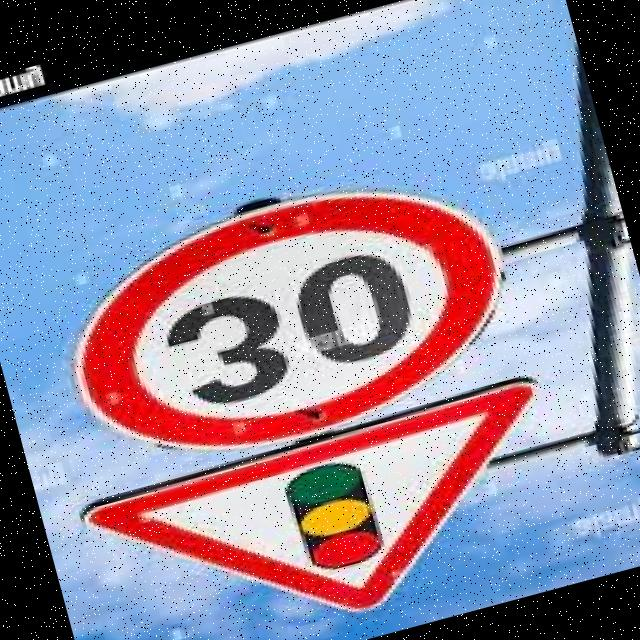light_traffic: (71, 369, 592, 640)
speed_limit_30: (40, 136, 553, 494)
